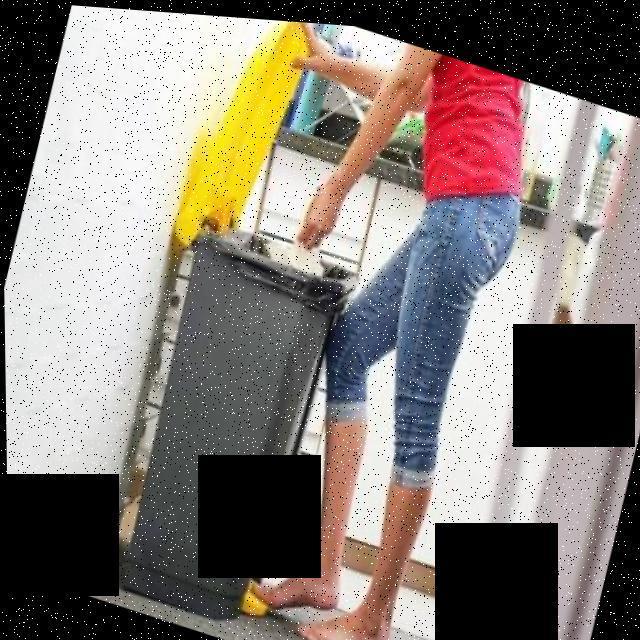bin: (99, 194, 371, 640)
